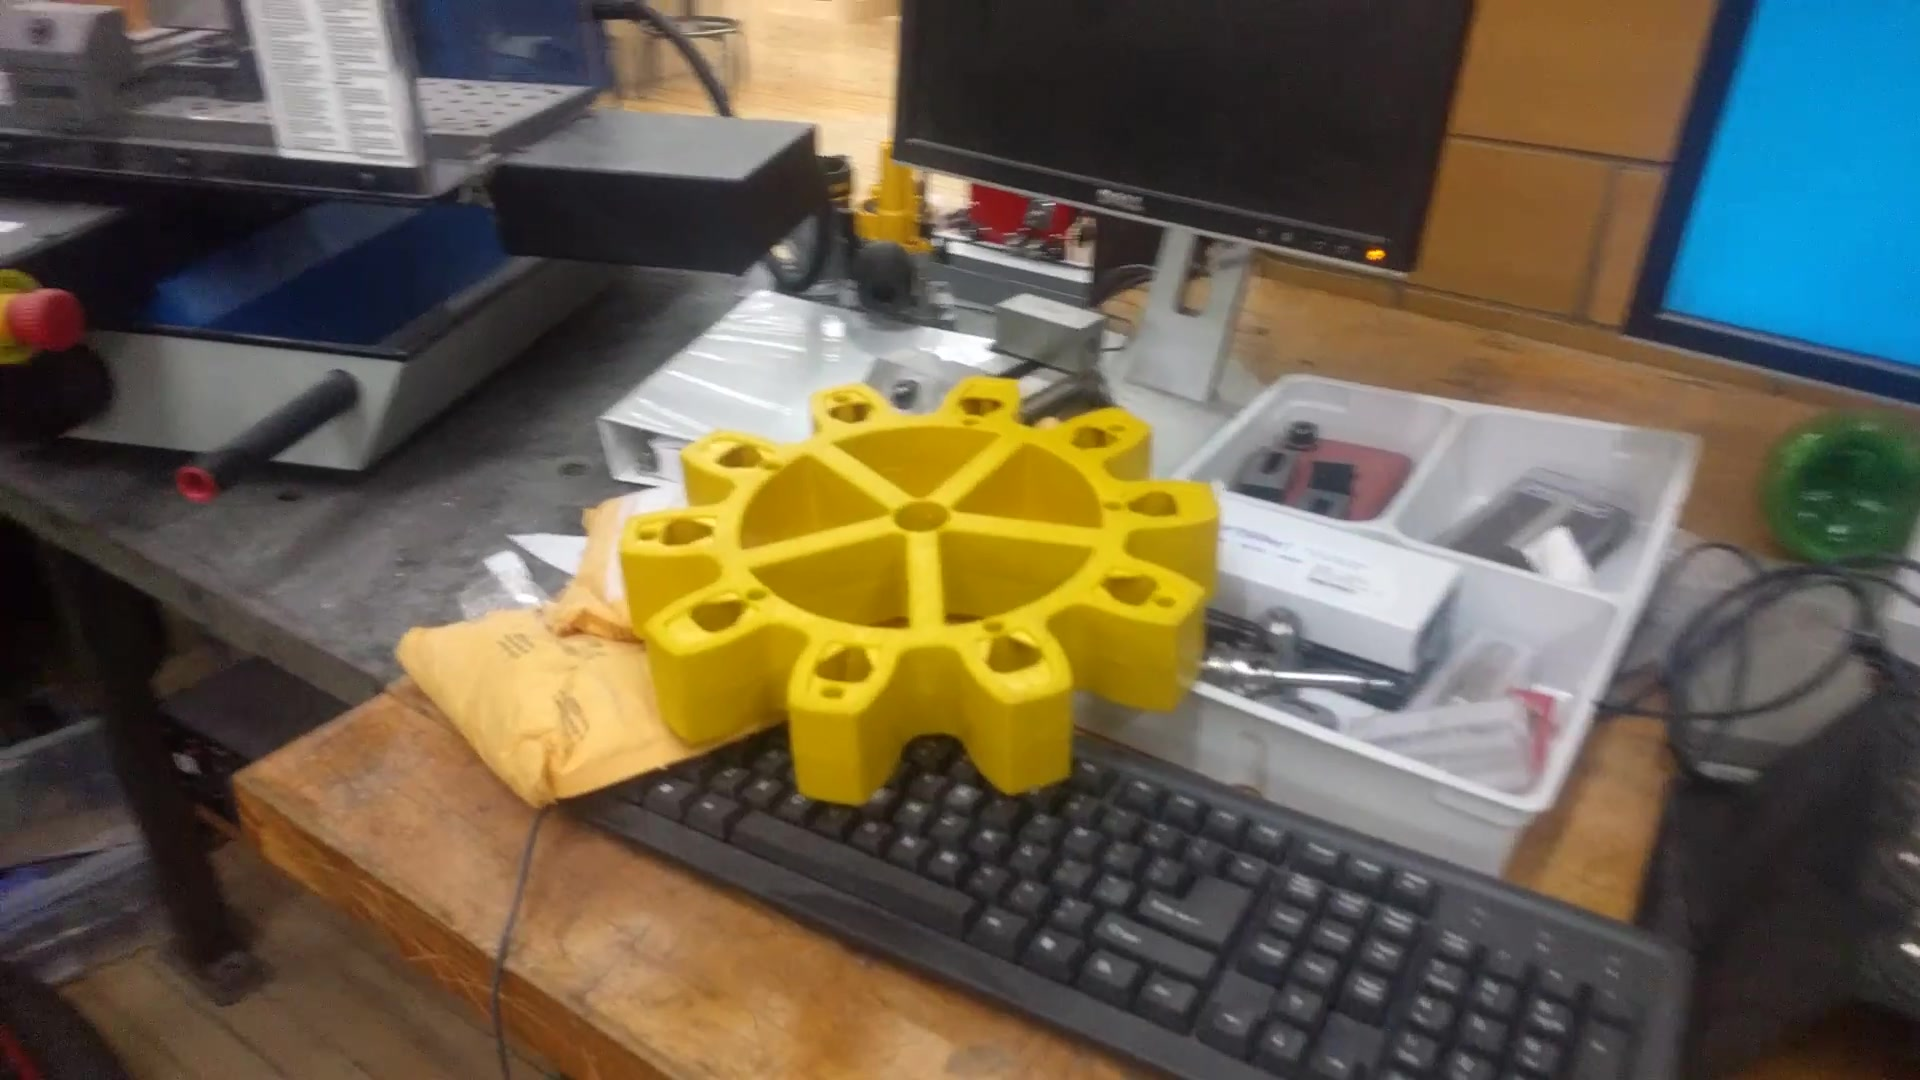gear: (574, 347, 1295, 839)
